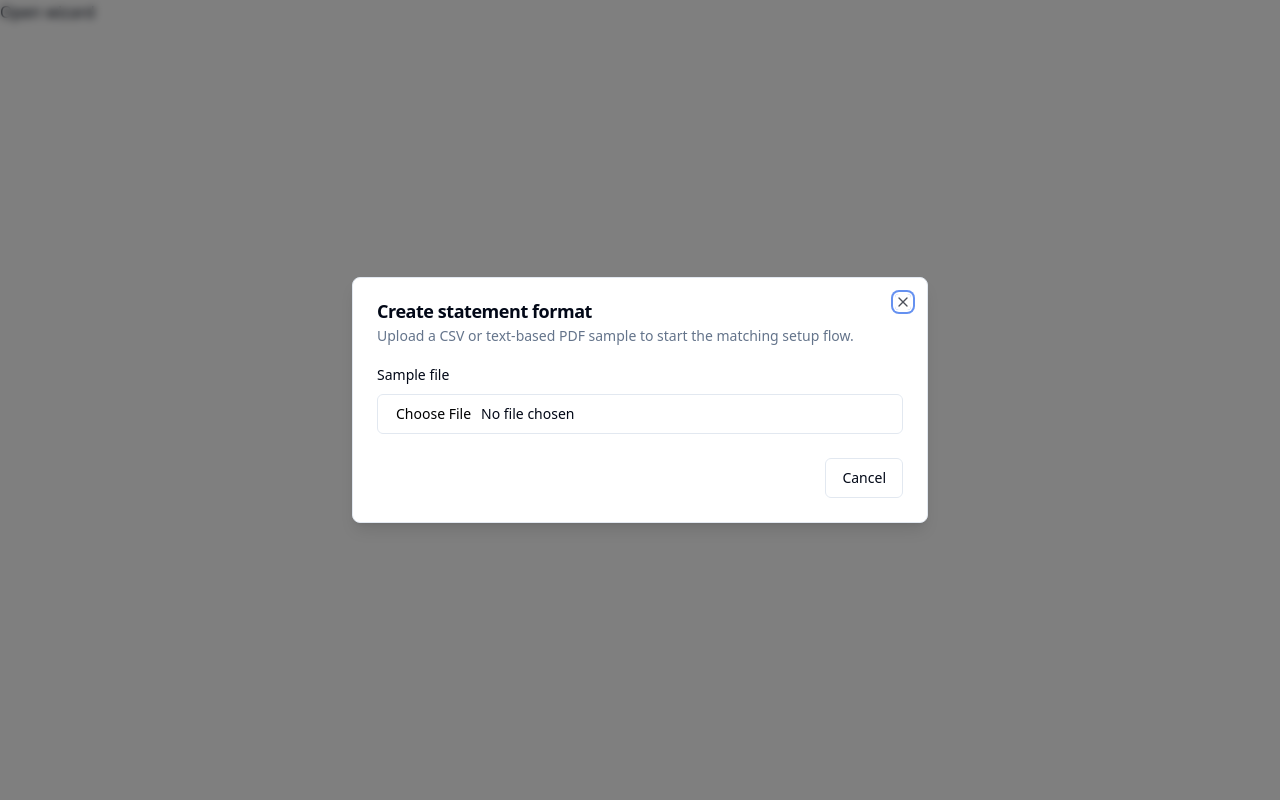
StatementFormatWizardDialog › reports cancellation when the upload dialog is cancelled
Click the button "Cancel": (864, 478) [825,458,903,498]
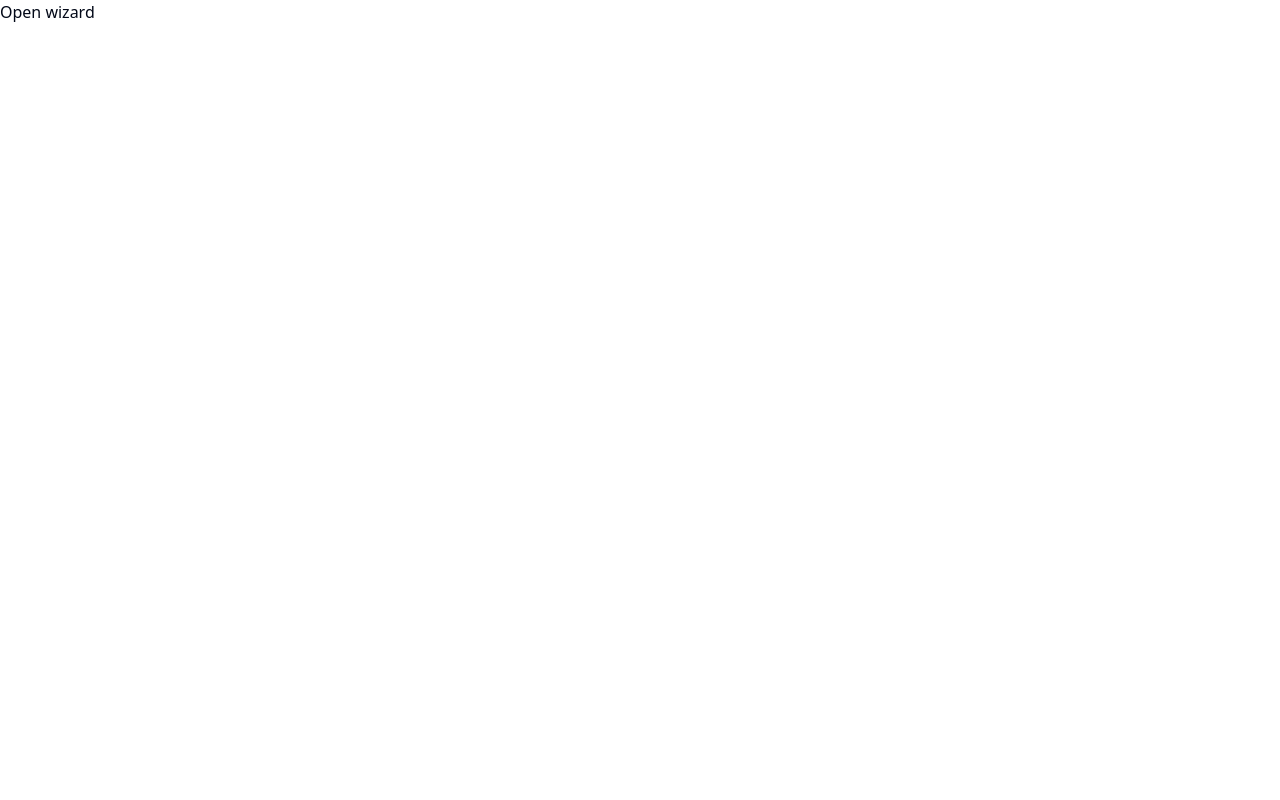
Check: the heading "Create statement format" is gone
